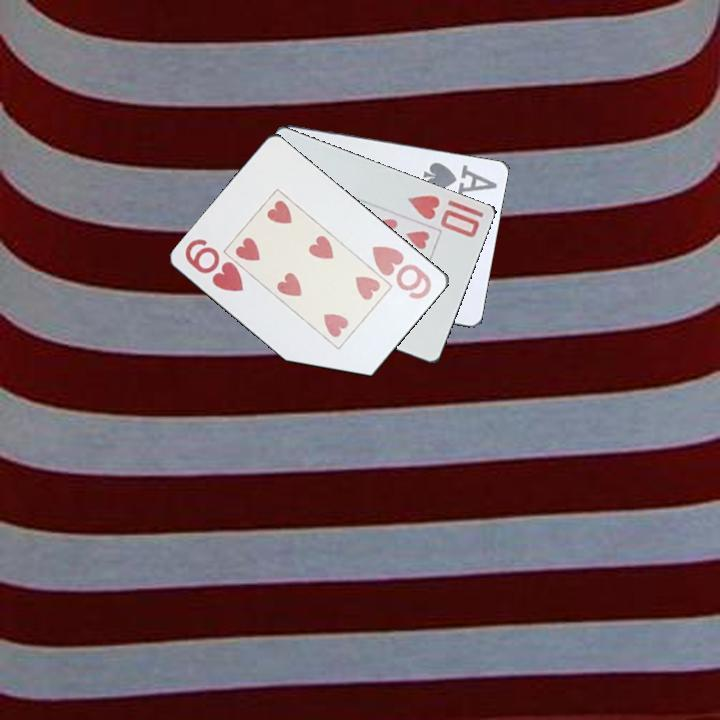6h: (369, 242, 435, 302), (182, 235, 247, 295)
As: (419, 158, 500, 196)
Th: (404, 191, 483, 240)
